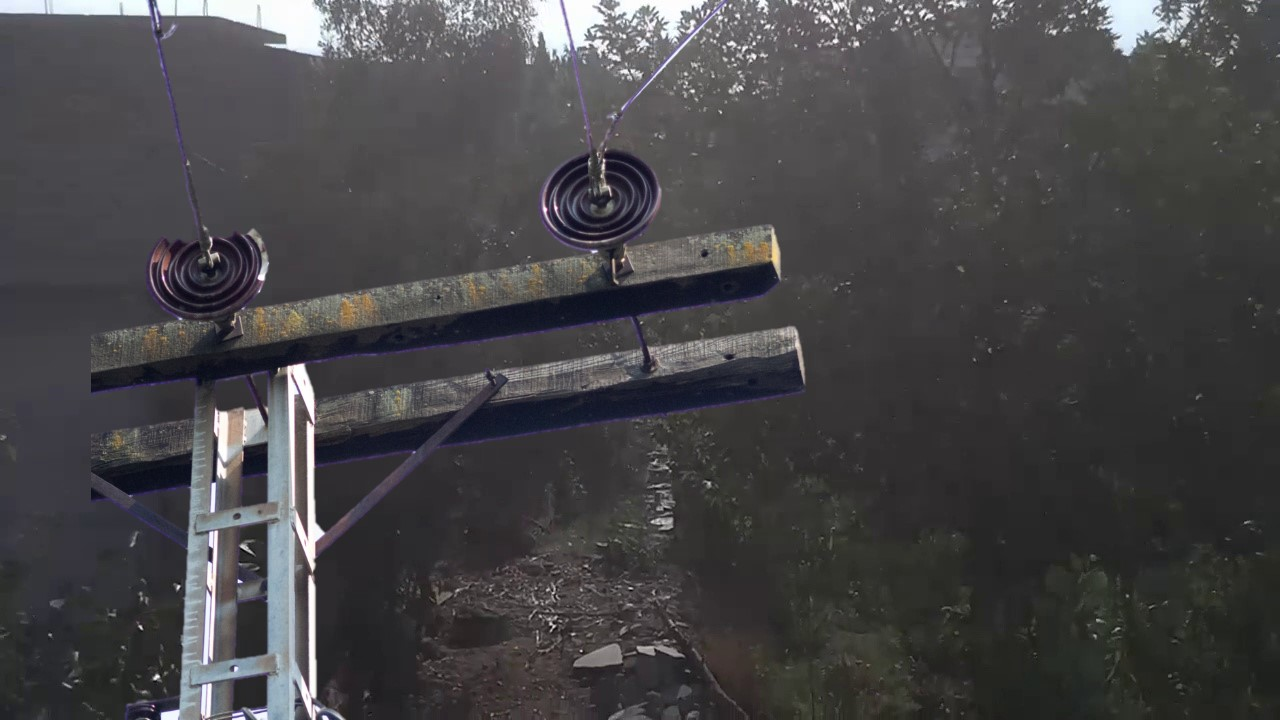defect_disc: (145, 221, 279, 325)
insulator_disc: (538, 146, 666, 252)
